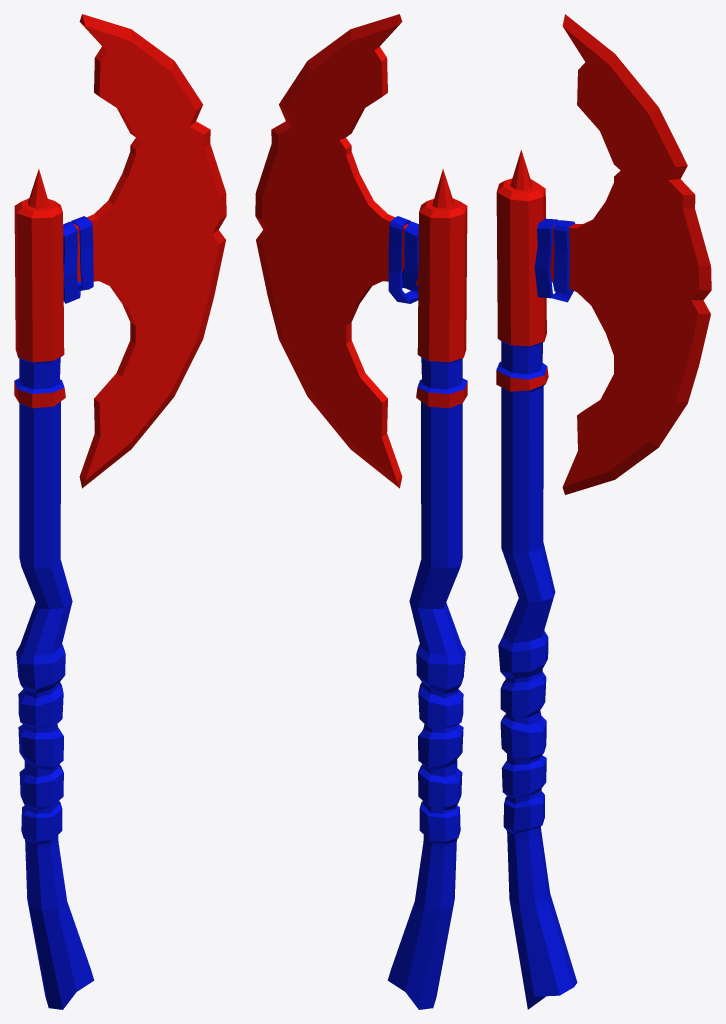
The model's file is SM_Axt.fbx.
The picture shows the model from 3 angles, left to right: view 1: azimuth 30°, elevation 25°; view 2: azimuth 150°, elevation 25°; view 3: azimuth 330°, elevation 25°; orthographic projection.
Parts seen in each view (by area): view 1: SM_Axe; view 2: SM_Axe; view 3: SM_Axe.
Part boxes in pixels (box(x1,y1,x2,y2)): SM_Axe: box(14, 14, 226, 1009); SM_Axe: box(255, 14, 467, 1009); SM_Axe: box(496, 14, 711, 1009).
Size of the model in its own units: 15.62 by 70.19 by 3.31.
